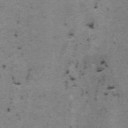oxide scale of temperature system: (62, 58, 120, 103), (69, 20, 94, 42), (10, 67, 34, 86), (14, 46, 22, 50), (94, 2, 98, 9), (2, 64, 6, 70), (7, 107, 11, 112), (14, 34, 18, 38), (69, 125, 73, 128)
